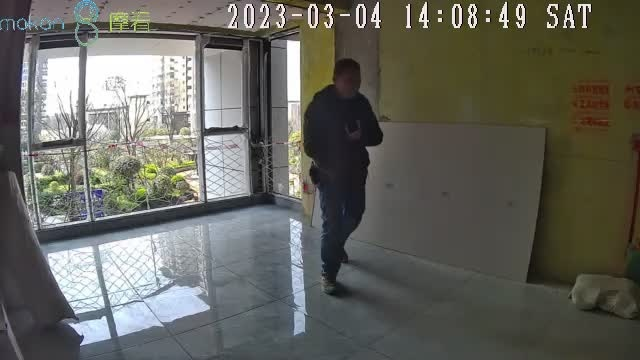people: (303, 58, 386, 295)
window: (24, 32, 264, 230)
